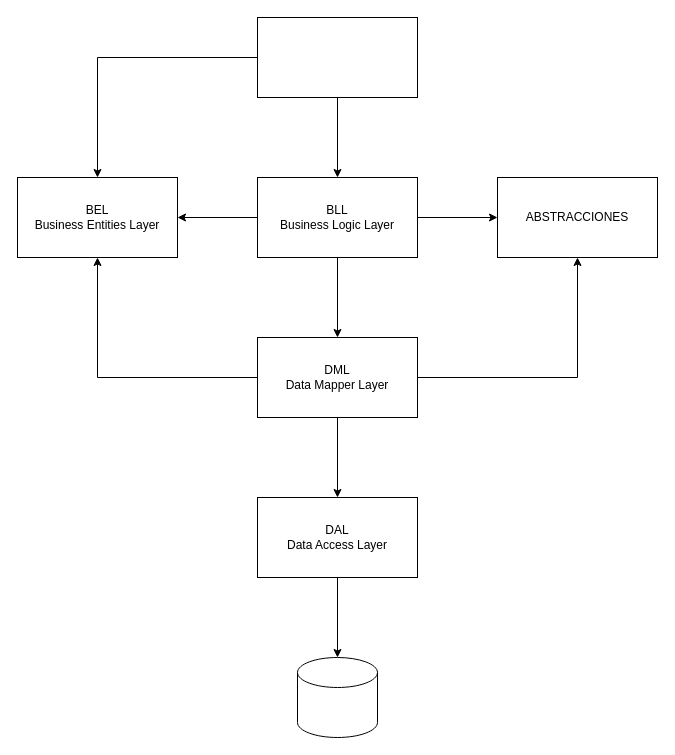
Image size: 675x755. Some labels were removed from this diagram. Here are the shapes that lost their labels. From the top down, the centre of each, then its label:
At point (337, 57): "UIL User Interface Layer".
At point (337, 697): "BBDD".
